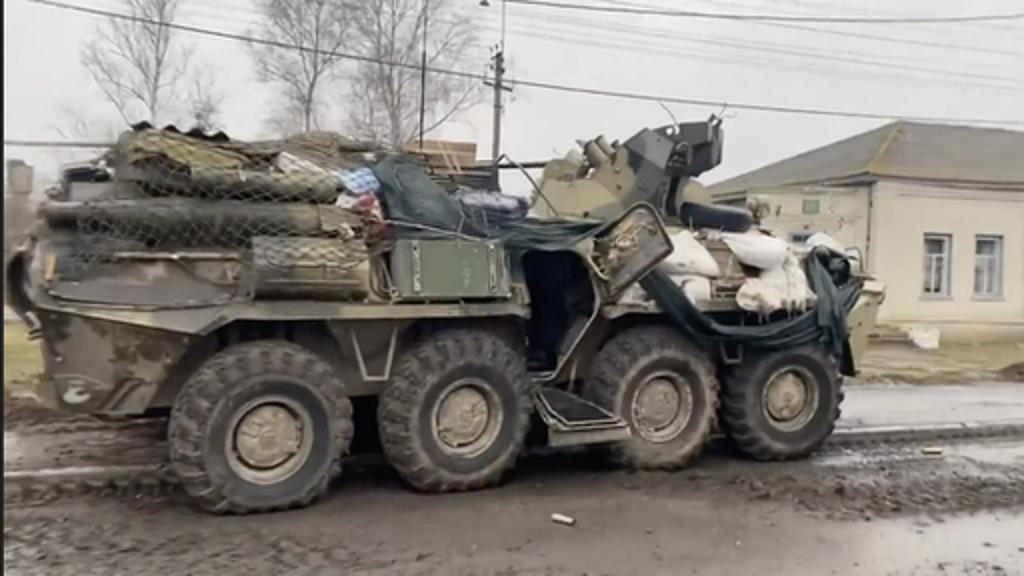APC-IFV: (20, 88, 852, 512)
